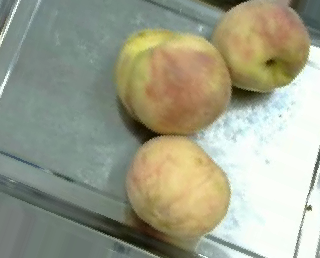Peach: (116, 28, 232, 135), (127, 134, 230, 244), (212, 0, 309, 93)
